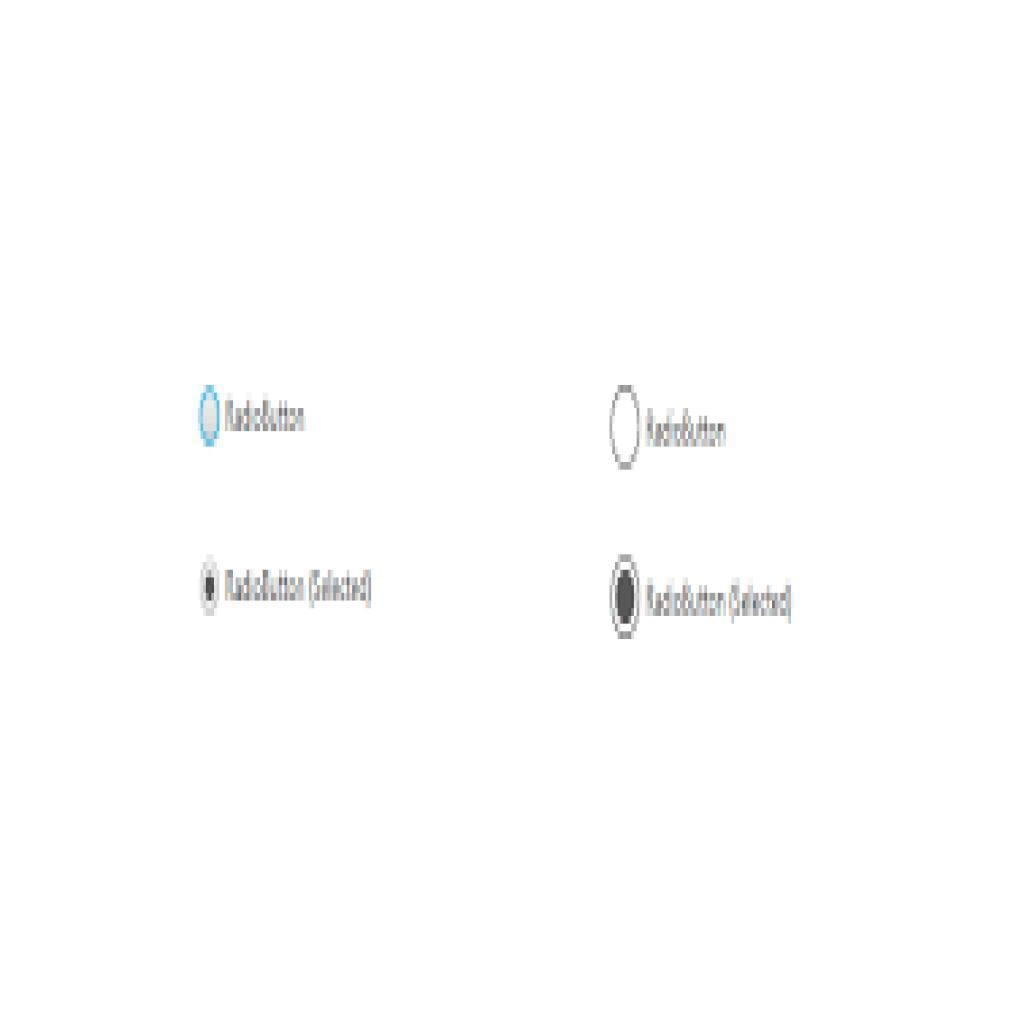label: (643, 577, 801, 628), (222, 563, 378, 614), (644, 404, 728, 452), (224, 394, 312, 438)
radio: (609, 383, 643, 476), (608, 553, 641, 642), (199, 382, 221, 451), (199, 552, 221, 619)
